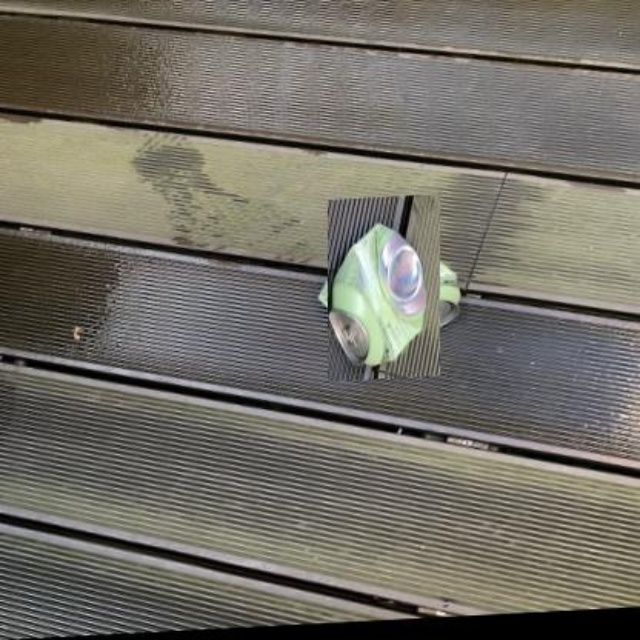trash: (329, 223, 425, 365)
